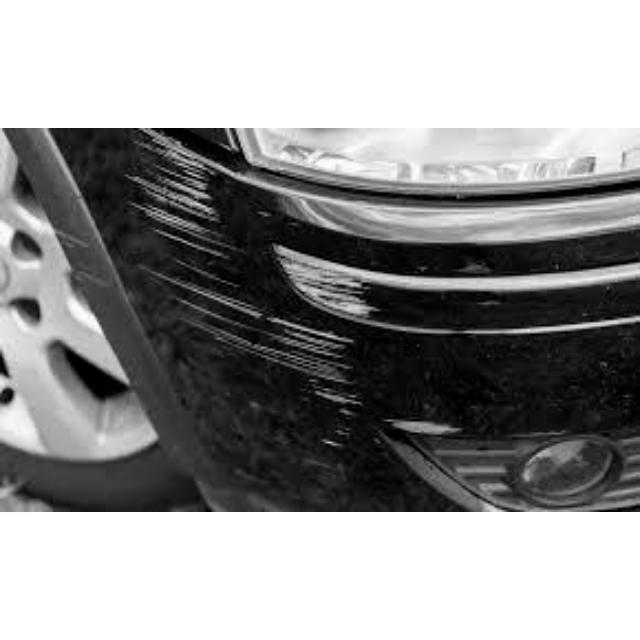front-bumper-dent: (29, 129, 638, 510)
